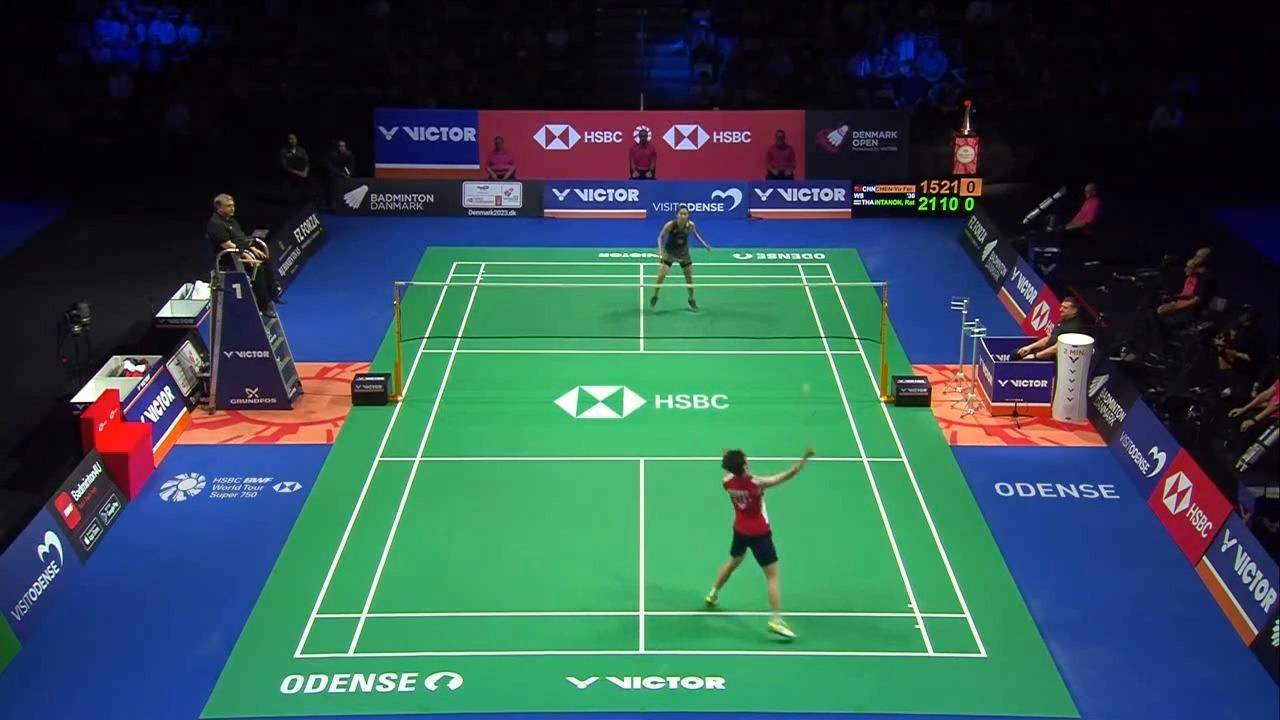shuttle: (803, 383, 813, 395)
